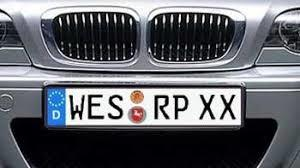license-plates: (44, 87, 244, 129)
